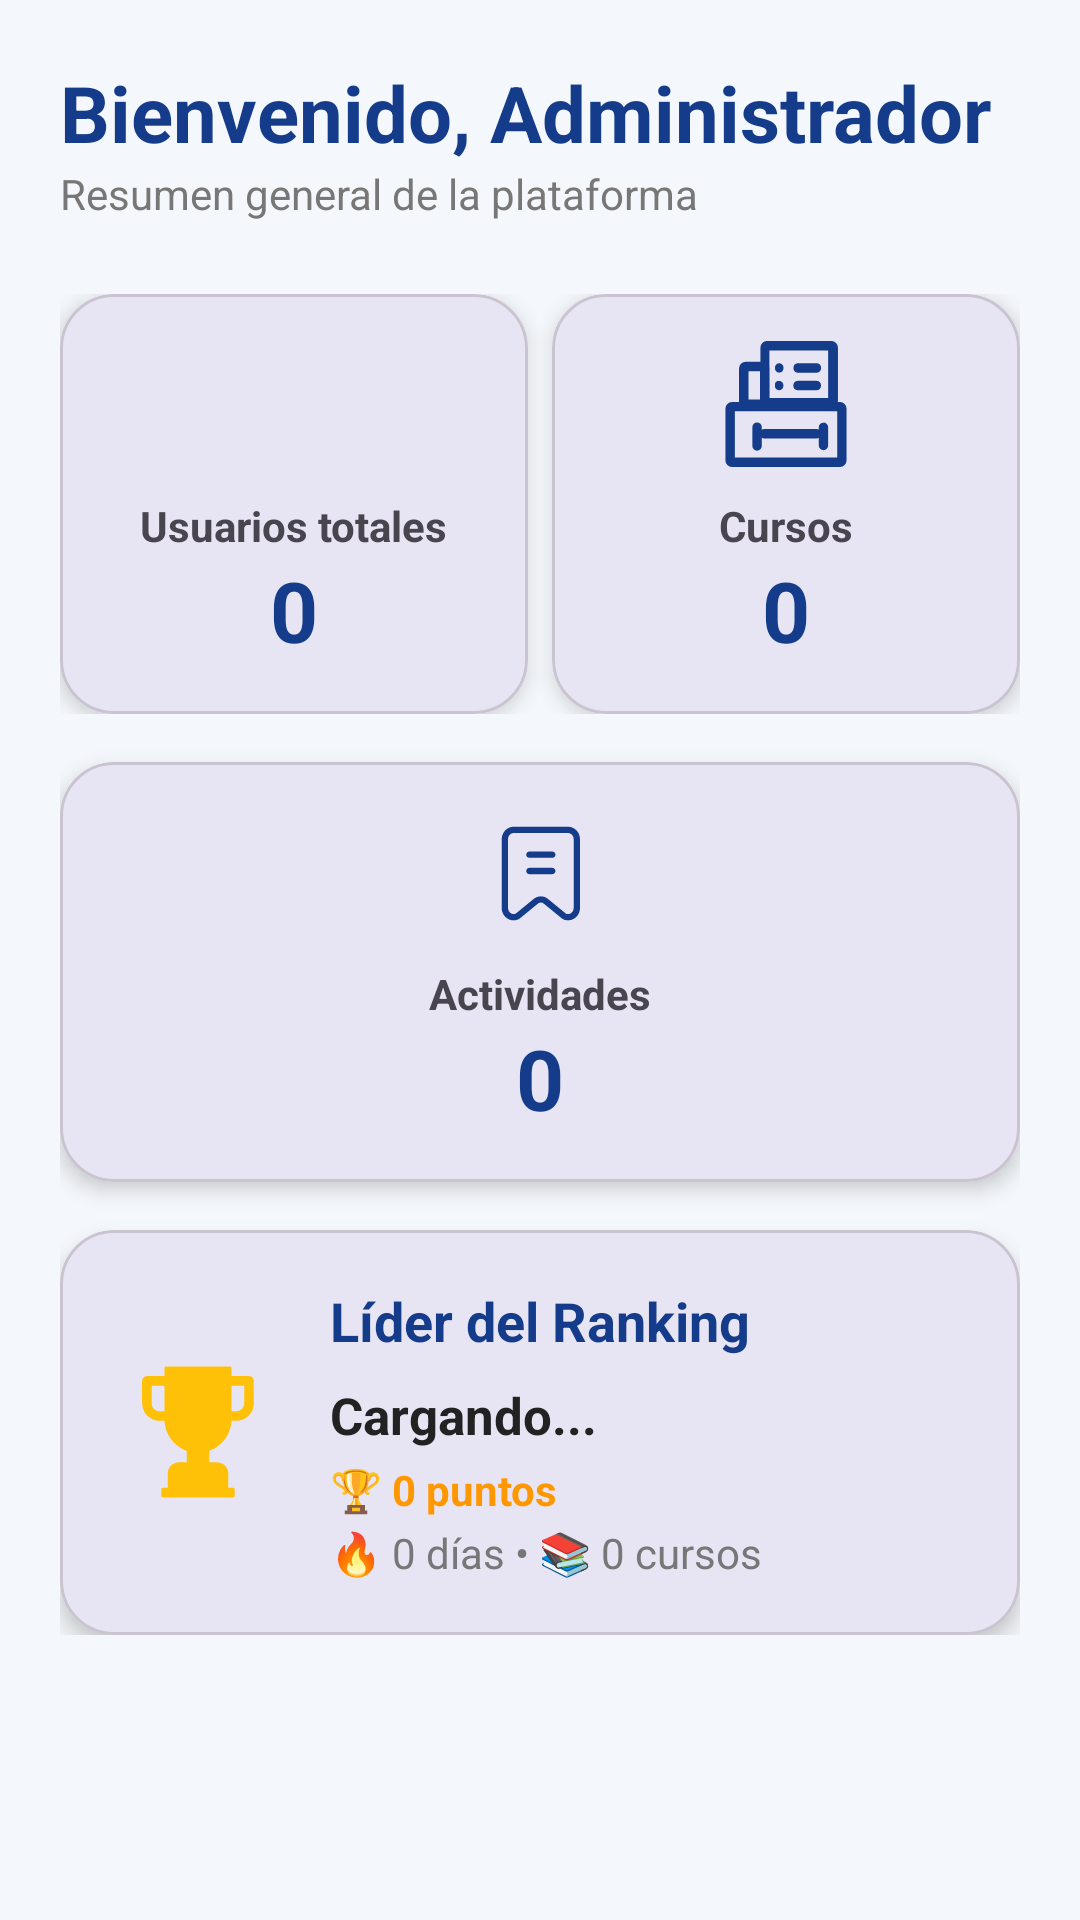

Icons on this 1080×1920 Android screen, each with the point to tap as (x,y):
trophy: (198,1432)
